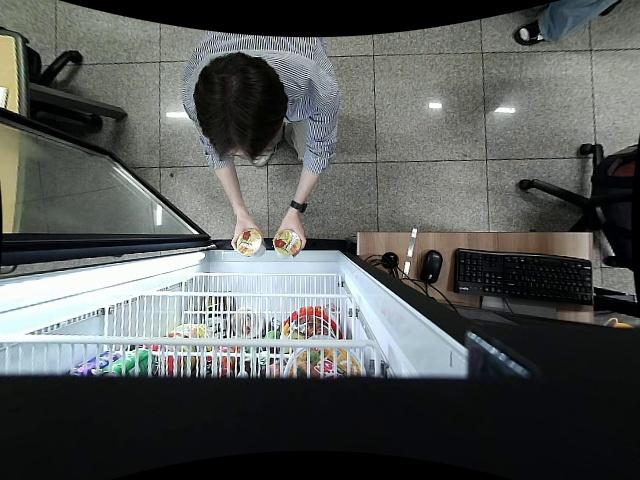00_hand: (272, 218, 307, 258), (230, 216, 262, 254)
04_chapagetti_S: (234, 228, 262, 254), (274, 232, 300, 258)
